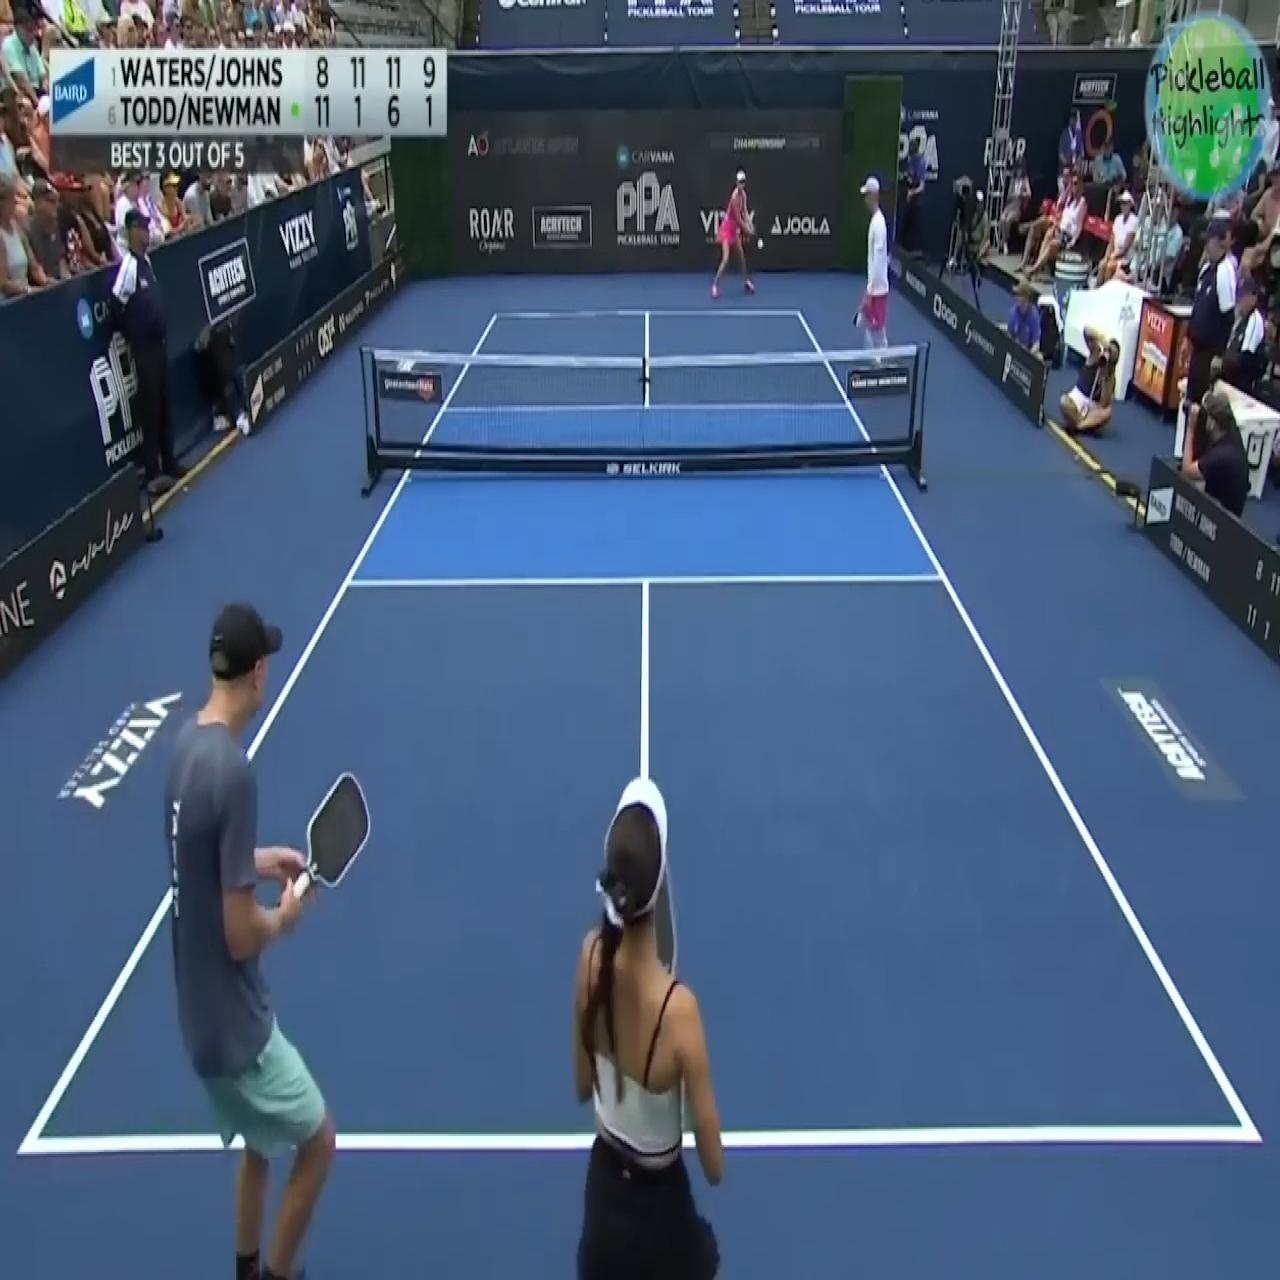Pickleball: (754, 233, 764, 252)
